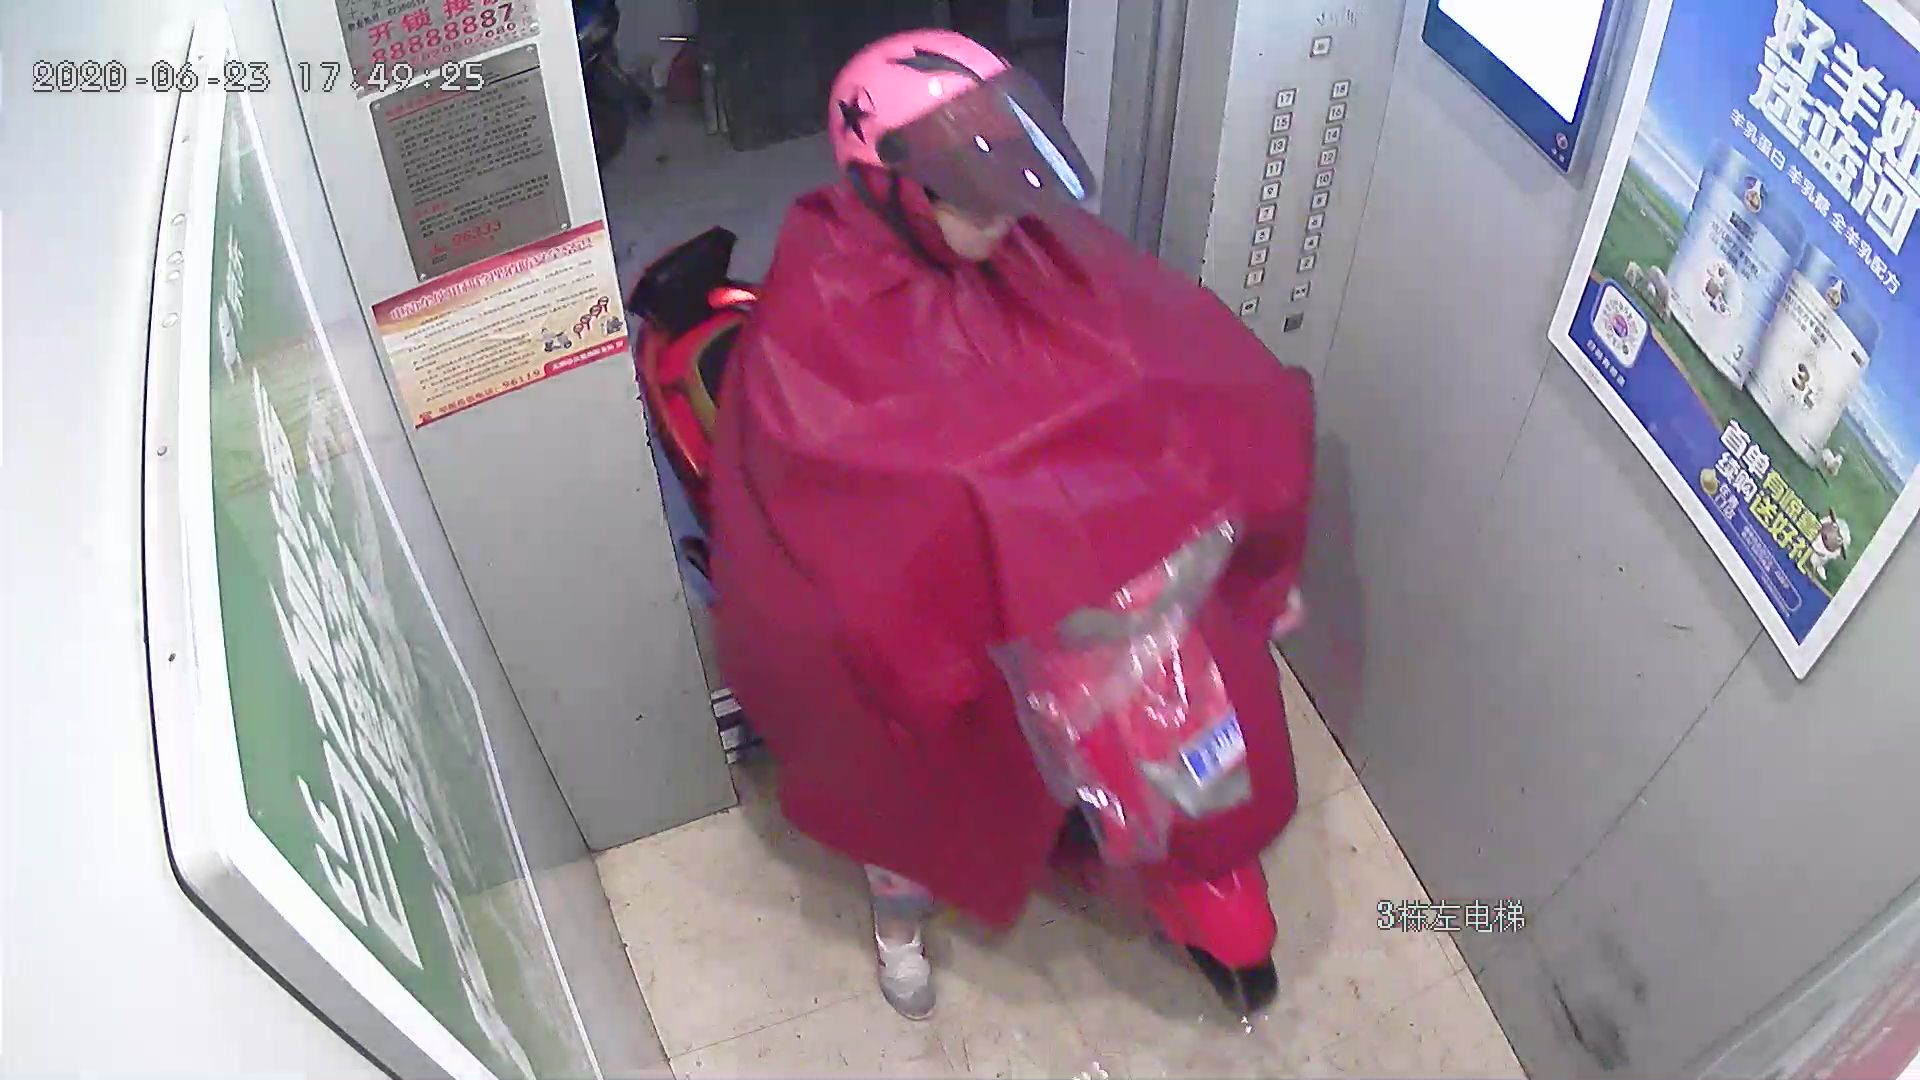Electric-bicycle: (644, 233, 1302, 994)
